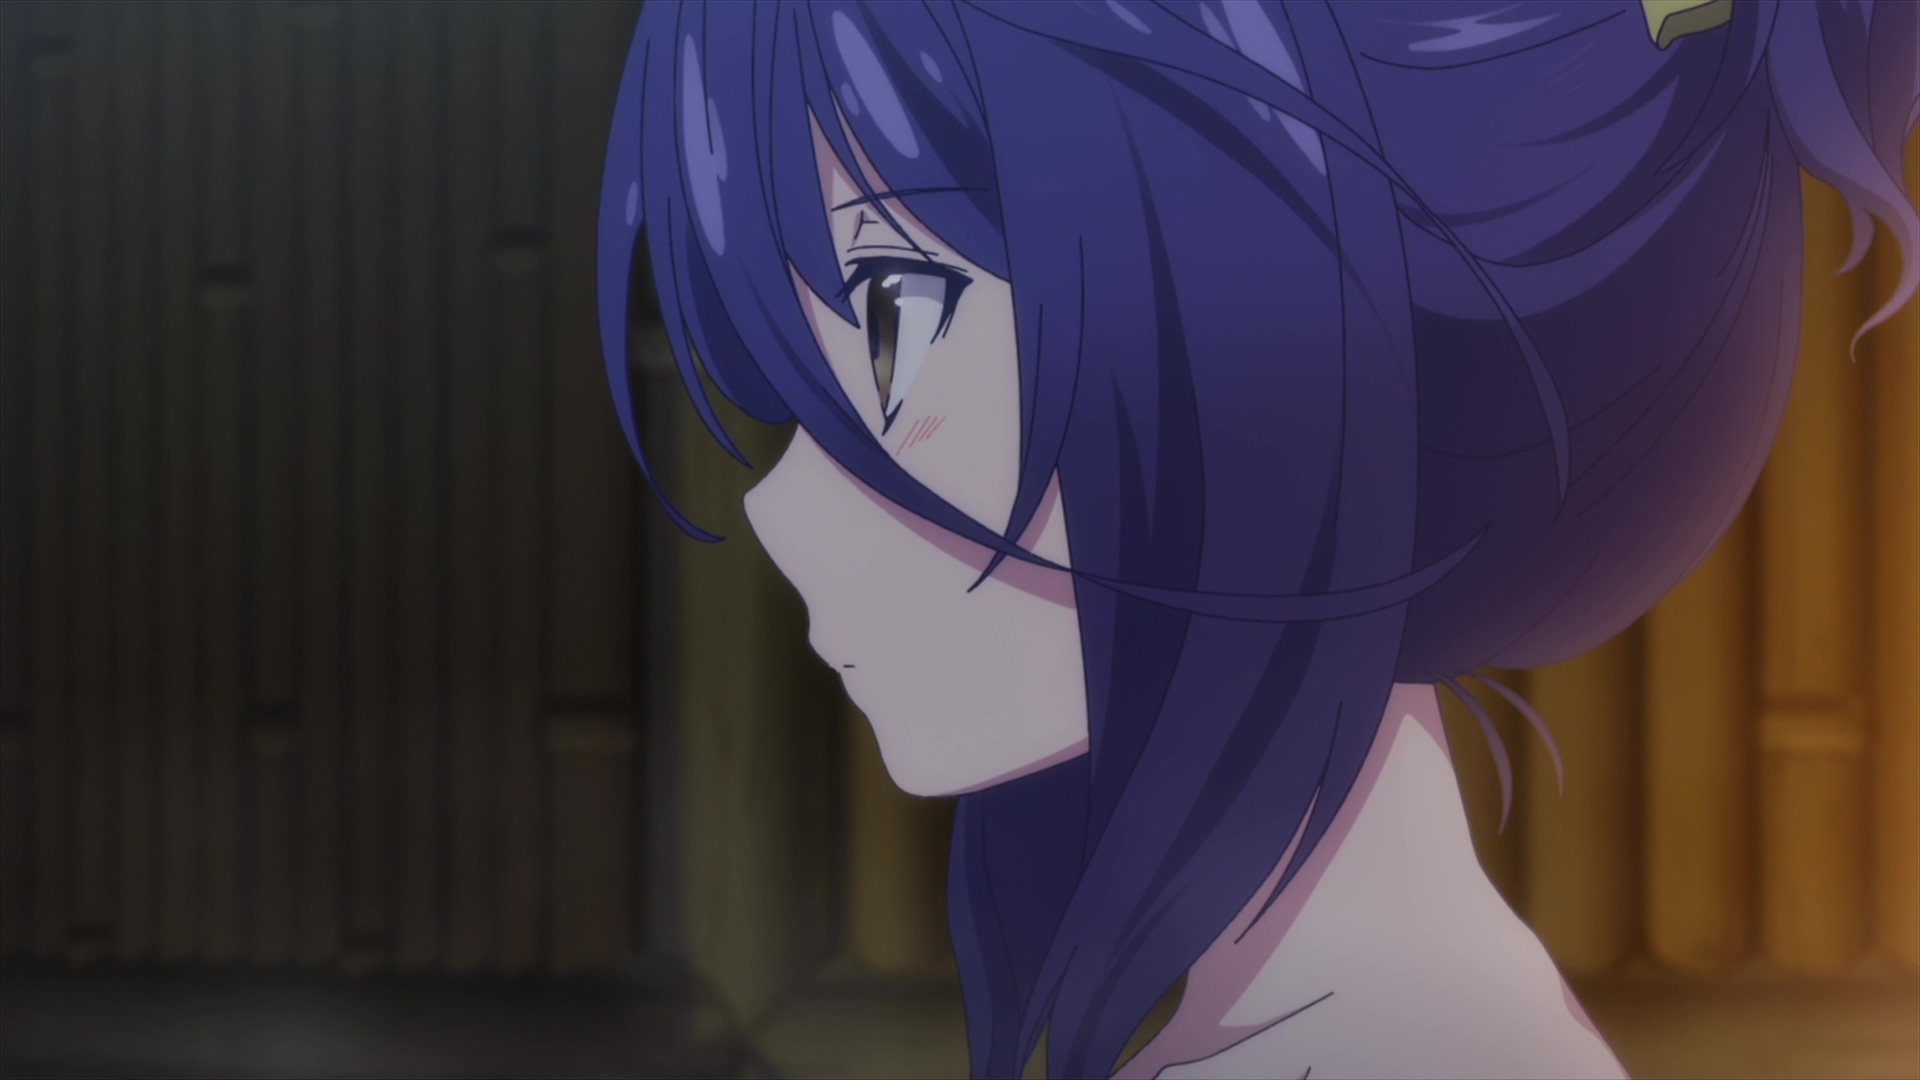皋: (595, 1, 1920, 1080)
